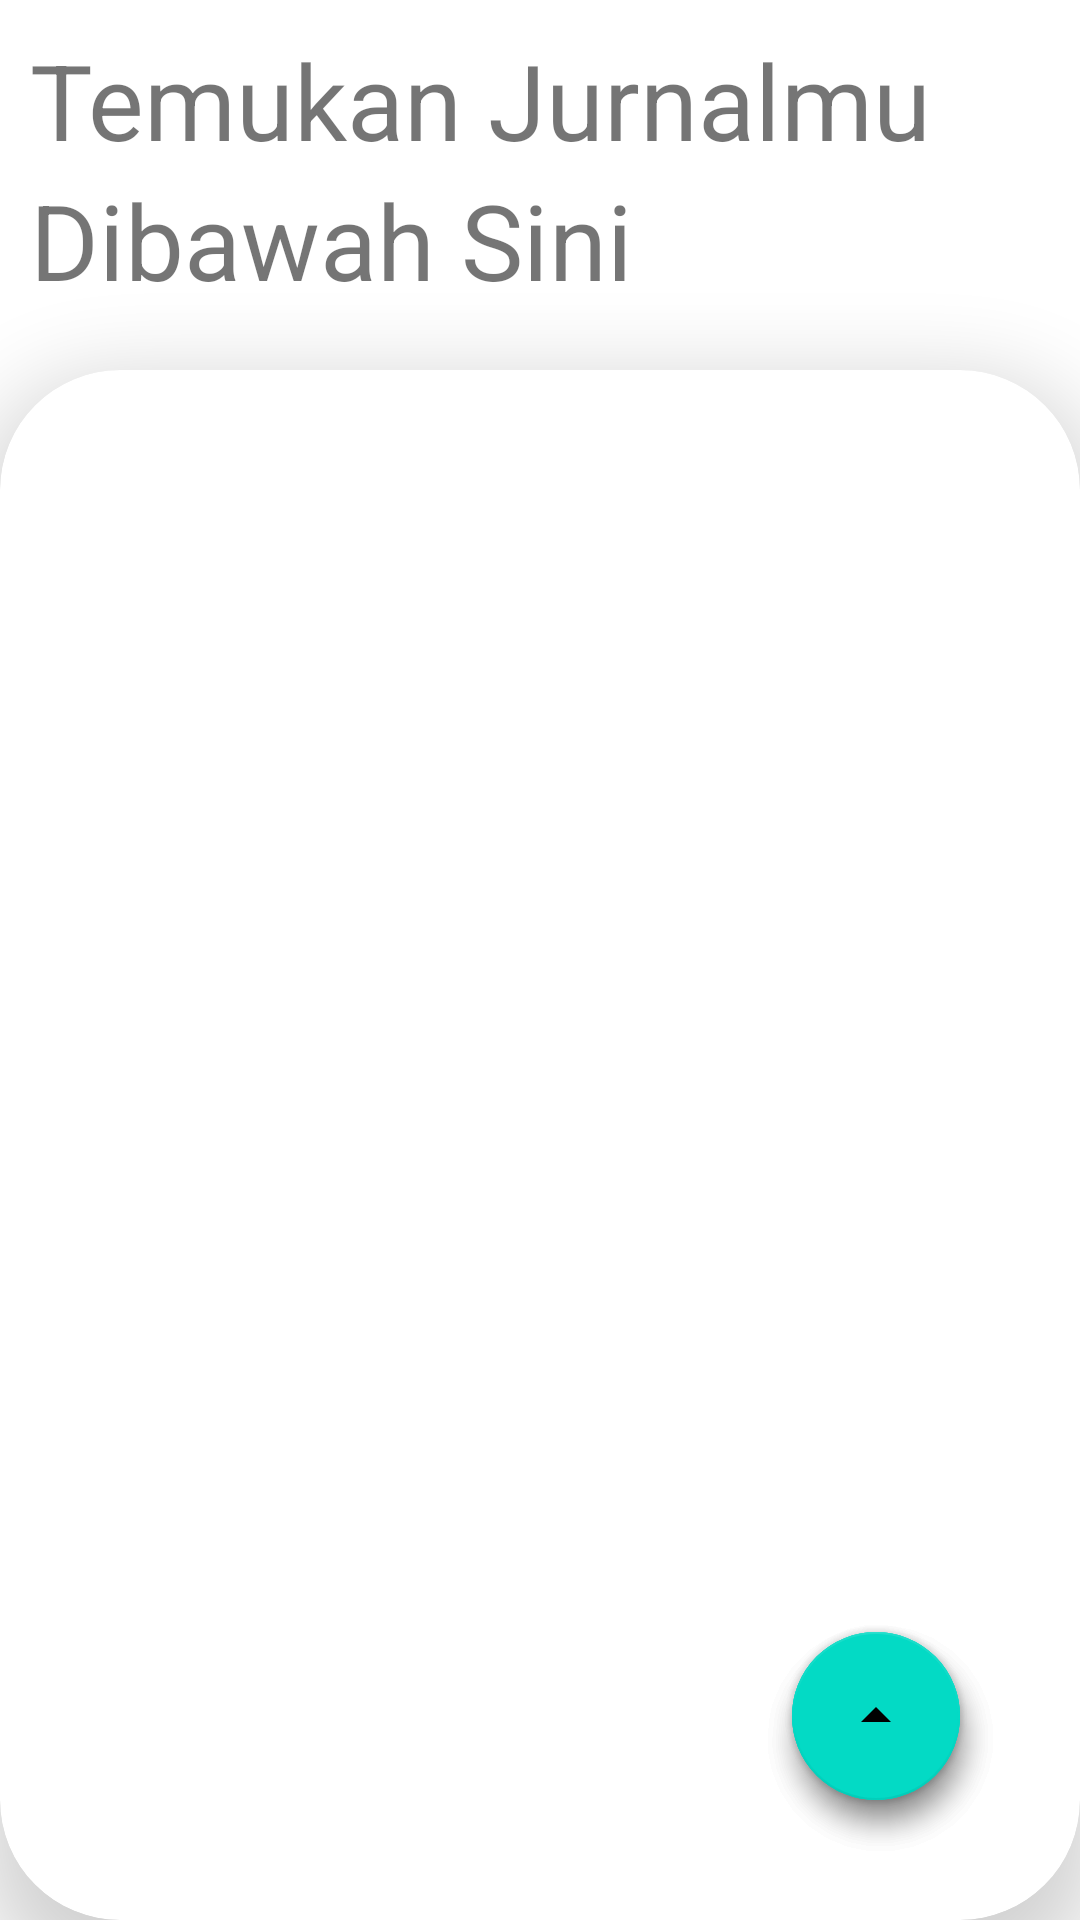

Point at icon controls on the screen. Image size 1080*1920, points as (x=x, y=y).
arrow drop up: (x=876, y=1716)
